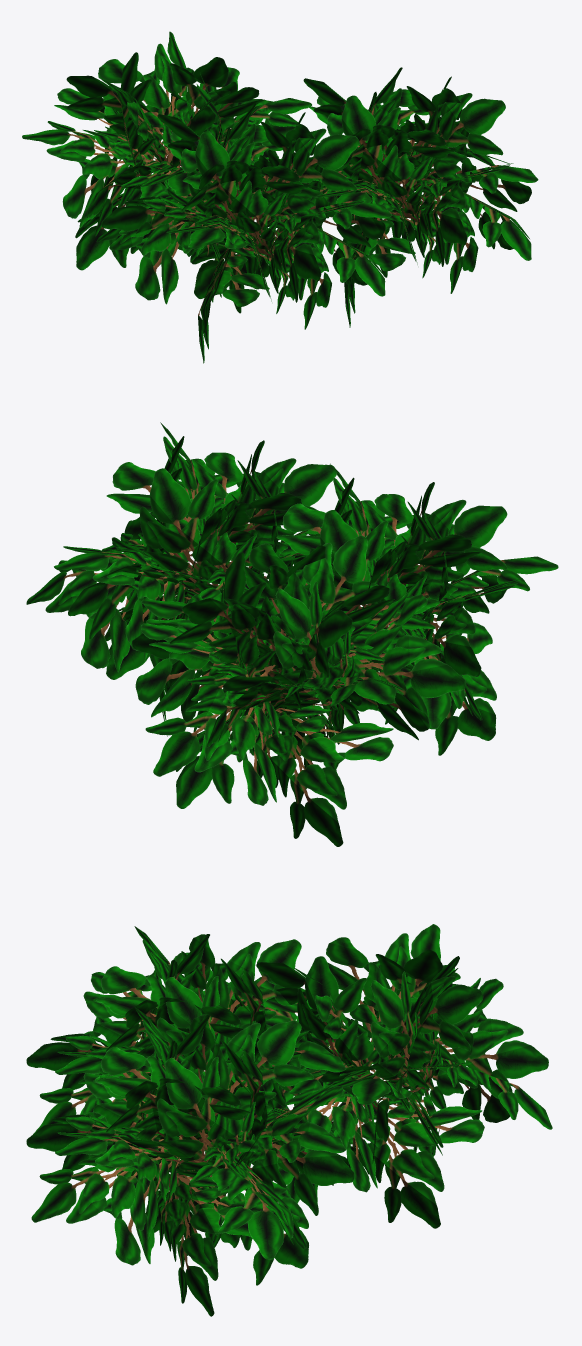
Rendered from Bush 2.fbx.
3 views of the same model, one above another, from view 1: azimuth 30°, elevation 25°; view 2: azimuth 150°, elevation 25°; view 3: azimuth 270°, elevation 25° (orthographic). The views are drawn at different scales.
Visible parts, largest first — view 1: Bush Branch 1.005; view 2: Bush Branch 1.005; view 3: Bush Branch 1.005.
Part boxes in pixels (left/top/right/bottom): Bush Branch 1.005: left=22, top=31, right=538, bottom=363; Bush Branch 1.005: left=26, top=422, right=558, bottom=846; Bush Branch 1.005: left=26, top=924, right=552, bottom=1316.
Bounding box in the file's own units: 9337 × 5005 × 9138.
